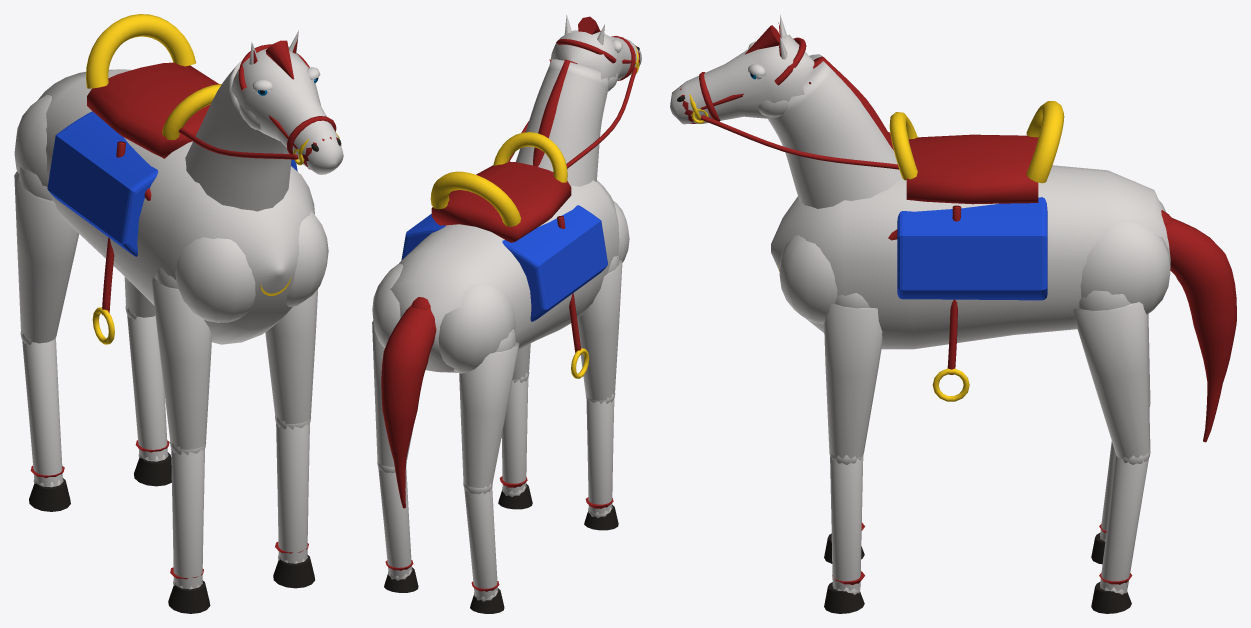
File: island_horse.glb
3 views of the same model, side by side, from view 1: azimuth 30°, elevation 25°; view 2: azimuth 150°, elevation 25°; view 3: azimuth 270°, elevation 25° (orthographic). The views are drawn at different scales.
Visible parts, largest first — view 1: mount_body, mount_saddle_pad, mount_neck, mount_upper_leg_br, mount_upper_leg_fr, mount_saddle, horse_head, mount_pectoral_-1, mount_upper_leg_fl, mount_cannon_br, mount_cannon_fl, mount_cannon_fr (+15 smaller); view 2: mount_body, mount_saddle_pad, mount_neck, horse_tail, mount_saddle, mount_upper_leg_br, mount_haunch_-1, mount_upper_leg_fr, mount_cannon_fr, mount_cannon_br, mount_cannon_fl, mount_cannon_bl (+15 smaller); view 3: mount_body, mount_saddle_pad, mount_neck, mount_saddle, mount_upper_leg_bl, horse_tail, mount_upper_leg_fl, horse_head, mount_haunch_1, mount_cannon_bl, mount_cannon_fl, mount_pectoral_1 (+6 smaller).
Part boxes in pixels (x1,y1,x2,y2): mount_body: (37, 69, 314, 344); mount_saddle_pad: (47, 111, 297, 256); mount_neck: (185, 60, 291, 211); mount_upper_leg_br: (14, 171, 79, 343); mount_upper_leg_fr: (151, 276, 211, 449); mount_saddle: (87, 62, 218, 158); horse_head: (231, 46, 343, 174); mount_pectoral_-1: (175, 237, 255, 322); mount_upper_leg_fl: (265, 288, 318, 423); mount_cannon_br: (22, 337, 62, 486); mount_cannon_fl: (276, 421, 309, 563); mount_cannon_fr: (171, 446, 205, 589); mount_body: (390, 180, 619, 372); mount_saddle_pad: (401, 205, 607, 321); mount_neck: (516, 59, 608, 186); horse_tail: (381, 305, 436, 508); mount_saddle: (431, 161, 571, 242); mount_upper_leg_br: (459, 340, 519, 487); mount_haunch_-1: (438, 283, 515, 373); mount_upper_leg_fr: (577, 259, 622, 400); mount_cannon_fr: (586, 396, 614, 514); mount_cannon_br: (464, 488, 497, 599); mount_cannon_fl: (501, 378, 528, 493); mount_cannon_bl: (378, 467, 411, 578); mount_body: (771, 165, 1170, 349); mount_saddle_pad: (897, 197, 1047, 300); mount_neck: (768, 54, 901, 208); mount_saddle: (906, 134, 1038, 204); mount_upper_leg_bl: (1073, 302, 1150, 459); horse_tail: (1165, 218, 1236, 442); mount_upper_leg_fl: (824, 304, 882, 458); horse_head: (670, 34, 814, 124); mount_haunch_1: (1080, 219, 1170, 314); mount_cannon_bl: (1100, 455, 1148, 591); mount_cannon_fl: (830, 456, 863, 590); mount_pectoral_1: (779, 235, 837, 324).
Bounding box in the file's own units: 0.5176 × 1.59 × 1.46.
